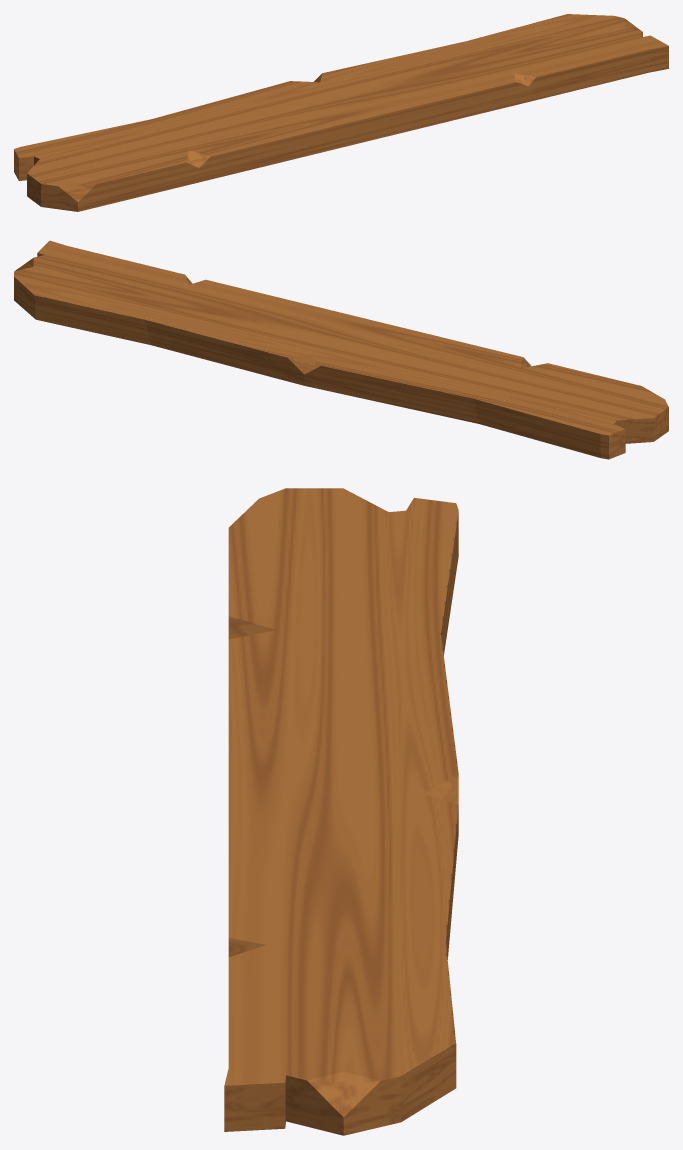
Rendered from model_tabuagrande_01.fbx.
3 views of the same model, one above another, from view 1: azimuth 30°, elevation 25°; view 2: azimuth 150°, elevation 25°; view 3: azimuth 270°, elevation 25° (orthographic). The views are drawn at different scales.
Visible parts, largest first — view 1: tabua grande; view 2: tabua grande; view 3: tabua grande.
Part boxes in pixels (left/top/right/bottom): tabua grande: left=14, top=14, right=668, bottom=211; tabua grande: left=14, top=240, right=668, bottom=459; tabua grande: left=224, top=488, right=458, bottom=1135.
Bounding box in the file's own units: 12.38 × 0.4422 × 2.04.
Materials: 1 (1 with a texture image).
